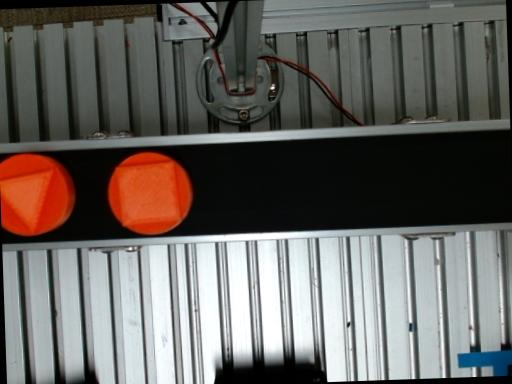Not_Square: (0, 170, 55, 234)
Orange_Waper: (108, 152, 193, 234), (0, 153, 77, 236)
Square: (115, 161, 181, 226)
